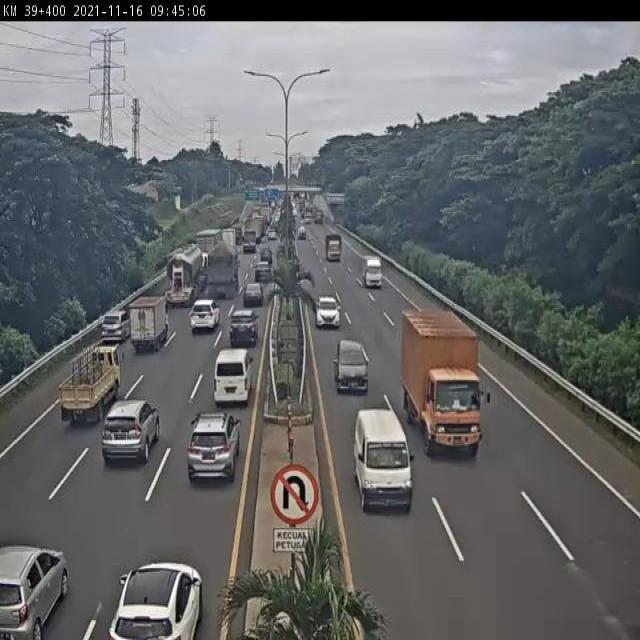car: (354, 408, 412, 513), (101, 398, 159, 462), (186, 413, 240, 480), (212, 352, 250, 407), (333, 339, 370, 392), (228, 313, 257, 351), (101, 308, 131, 341), (315, 293, 341, 328), (190, 299, 221, 328), (242, 284, 264, 311), (253, 263, 272, 284)
small truck: (59, 345, 124, 423), (129, 297, 169, 355), (359, 253, 383, 291)
truck-l-: (205, 245, 240, 300)
truck-m-: (403, 312, 486, 457)
truck-xl-: (163, 243, 206, 305)
